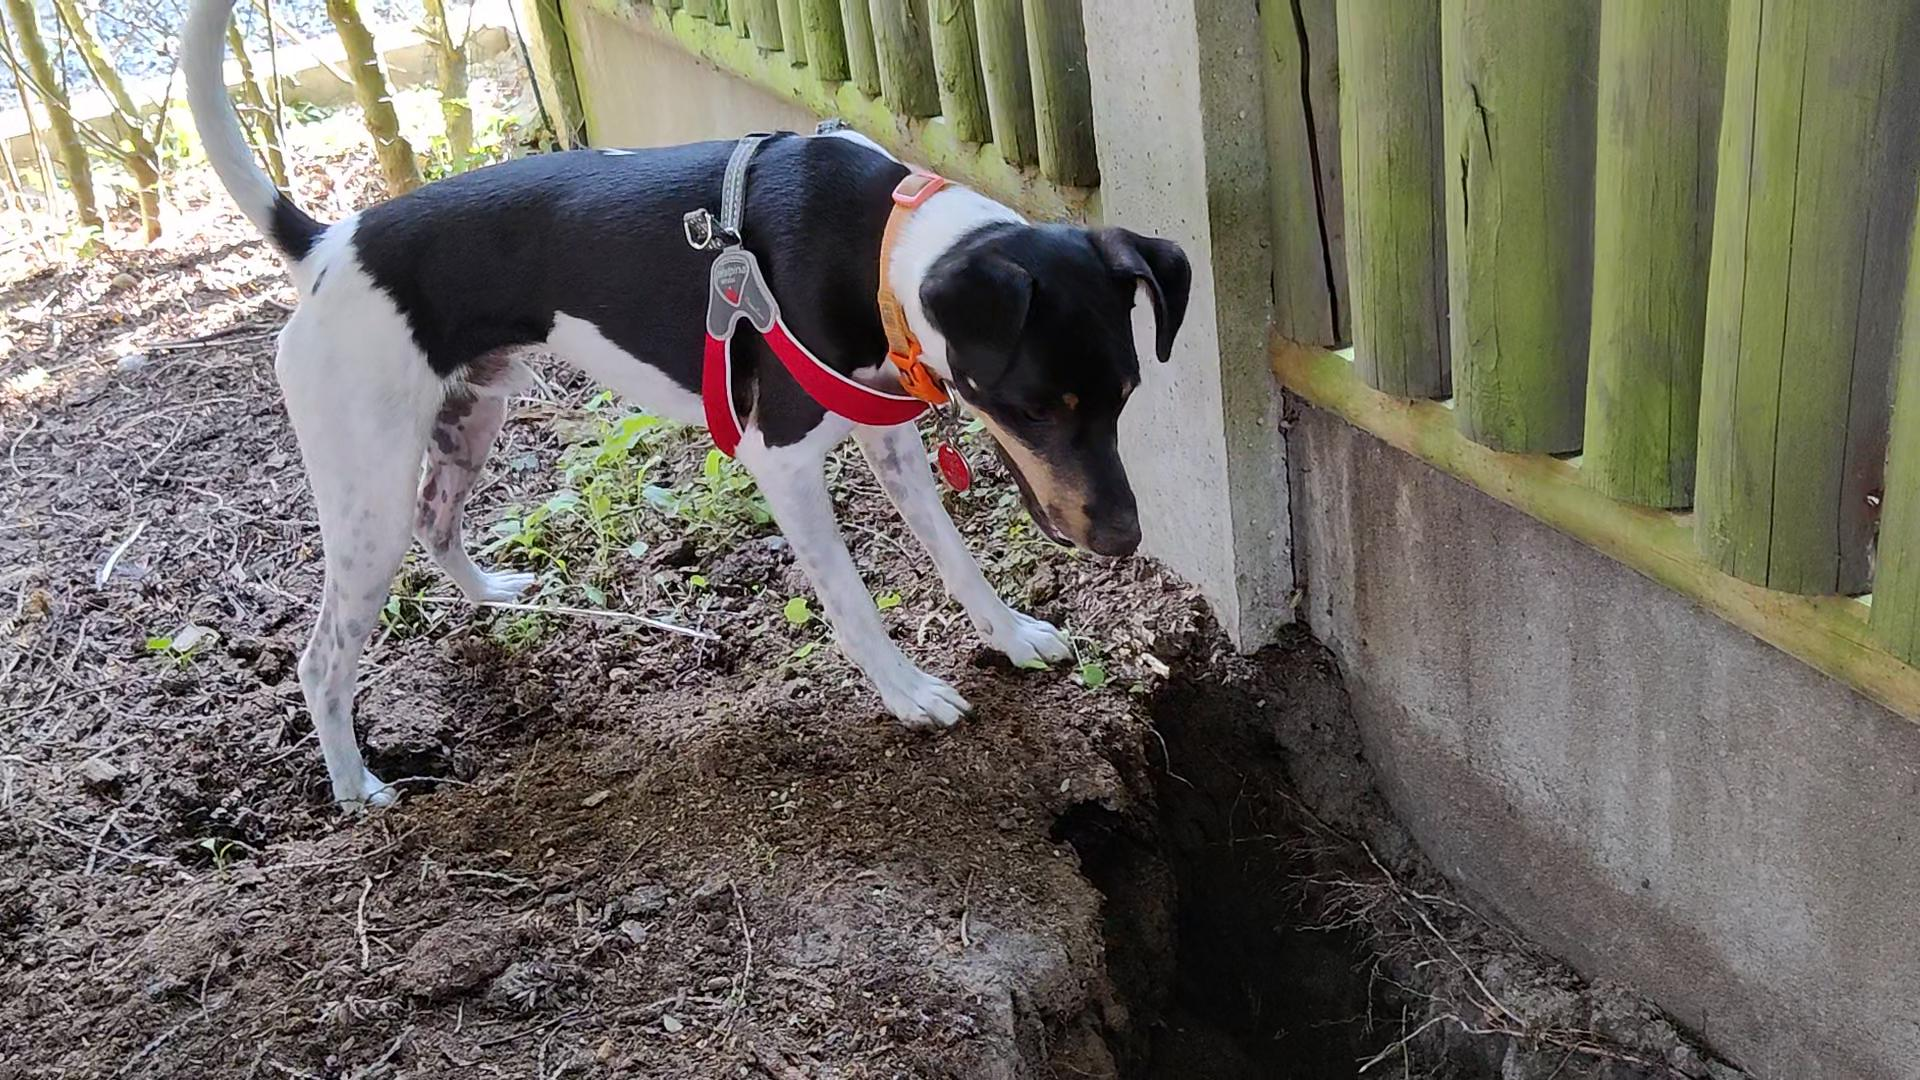Dog: (166, 0, 1229, 822)
